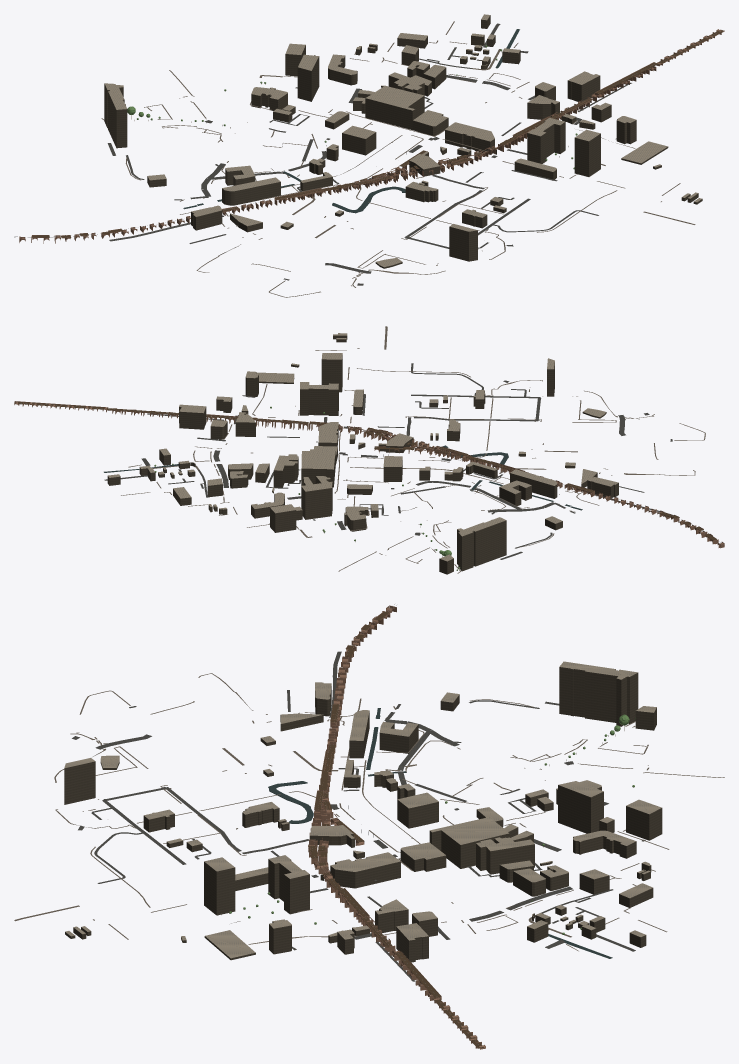
The model's file is sur_d.glb.
3 renders of one model, top to bottom at view 1: azimuth 30°, elevation 25°; view 2: azimuth 150°, elevation 25°; view 3: azimuth 270°, elevation 25°, orthographic. The views are drawn at different scales.
Parts seen in each view (by area): view 1: bldg_738799442, bldg_796971147, bldg_27930204, bldg_100646682, bldg_796971148, bldg_114603870, bldg_114491034, bldg_639819668, bldg_100646687, bldg_178409260, bldg_31177215, bldg_31178728 (+11 smaller); view 2: bldg_27930204, bldg_796971147, bldg_639819668, bldg_738799442, bldg_100646682, bldg_30927973, bldg_796971148, bldg_1076989156, bldg_178409260, bldg_204921650, bldg_31177215, bldg_100646687 (+5 smaller); view 3: bldg_27930204, bldg_738799442, bldg_639819668, bldg_796971147, bldg_114603870, bldg_796971148, bldg_30927973, bldg_114491034, bldg_1076989156, bldg_188049278, bldg_100646687, bldg_31178728 (+9 smaller).
Boxes of the visible parts, x1,y1,x2,y2 form: bldg_738799442: [365, 85, 424, 129]; bldg_796971147: [527, 117, 565, 163]; bldg_27930204: [104, 83, 127, 148]; bldg_100646682: [222, 177, 280, 205]; bldg_796971148: [574, 129, 600, 176]; bldg_114603870: [445, 122, 494, 154]; bldg_114491034: [449, 224, 477, 261]; bldg_639819668: [297, 54, 319, 101]; bldg_100646687: [342, 125, 376, 155]; bldg_178409260: [567, 71, 600, 101]; bldg_31177215: [251, 87, 287, 110]; bldg_31178728: [412, 110, 448, 135]; bldg_27930204: [457, 517, 506, 571]; bldg_796971147: [300, 382, 338, 415]; bldg_639819668: [301, 481, 332, 519]; bldg_738799442: [301, 448, 335, 487]; bldg_100646682: [510, 469, 557, 498]; bldg_30927973: [273, 454, 298, 487]; bldg_796971148: [321, 353, 342, 392]; bldg_1076989156: [270, 504, 296, 532]; bldg_178409260: [179, 404, 206, 429]; bldg_204921650: [499, 480, 531, 505]; bldg_31177215: [344, 506, 366, 531]; bldg_100646687: [383, 456, 402, 481]; bldg_27930204: [559, 661, 638, 726]; bldg_738799442: [429, 817, 509, 868]; bldg_639819668: [558, 781, 603, 833]; bldg_796971147: [268, 855, 309, 914]; bldg_114603870: [330, 852, 400, 888]; bldg_796971148: [204, 857, 235, 915]; bldg_30927973: [476, 837, 534, 874]; bldg_114491034: [64, 758, 95, 804]; bldg_1076989156: [626, 799, 662, 840]; bldg_188049278: [573, 830, 636, 858]; bldg_100646687: [397, 792, 438, 828]; bldg_31178728: [400, 842, 446, 871].
Size of the model in its own units: 1475 by 83.8 by 994.
12 materials, 6 textured.
